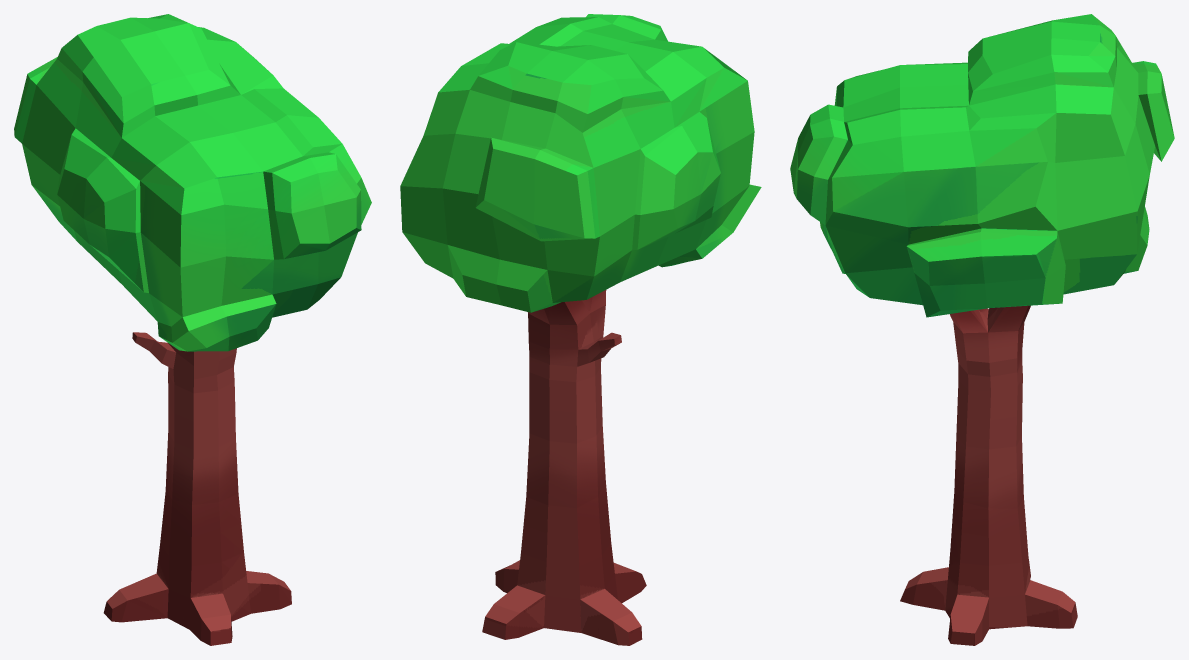
Rendered from tree.glb.
3 views of the same model, side by side, from view 1: azimuth 30°, elevation 25°; view 2: azimuth 150°, elevation 25°; view 3: azimuth 270°, elevation 25° (orthographic). The views are drawn at different scales.
Parts seen in each view (by area): view 1: Cube.001, Cube; view 2: Cube.001, Cube; view 3: Cube.001, Cube.
Boxes of the visible parts, x1,y1,x2,y2 form: Cube.001: (14,14,371,351); Cube: (103,332,291,645); Cube.001: (400,14,761,312); Cube: (482,290,646,645); Cube.001: (790,14,1174,317); Cube: (900,305,1077,645).
Size of the model in its own units: 19.78 by 44.68 by 27.58.
Materials: 2 (2 with a texture image).
